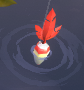idle: (31, 8, 63, 67)
